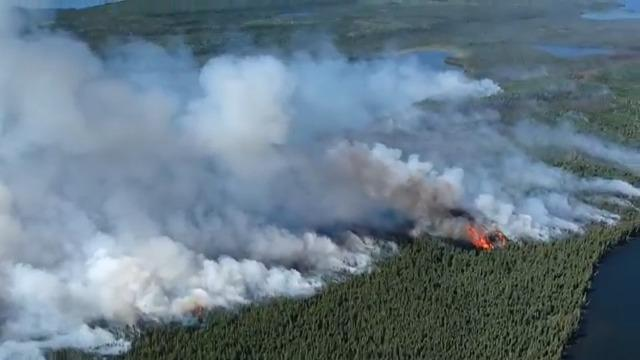fire: (467, 227, 505, 253)
smoke: (0, 27, 628, 360)
